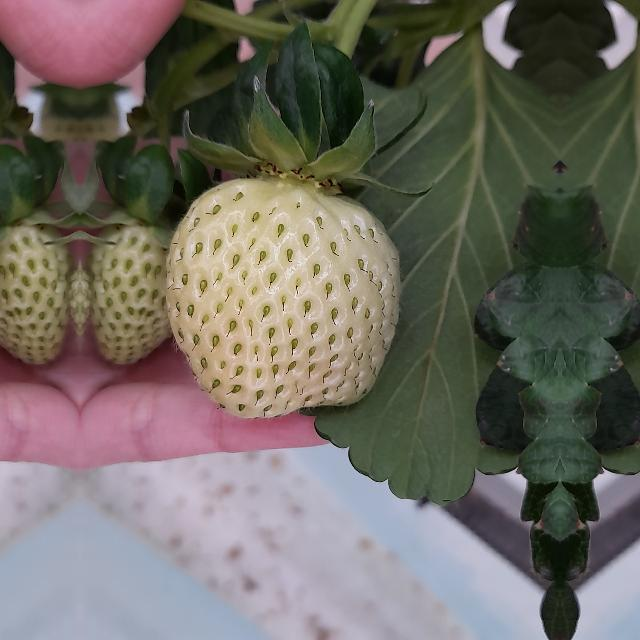Health_25: (92, 216, 186, 372), (0, 216, 68, 371)
Health_50: (166, 178, 400, 418)
